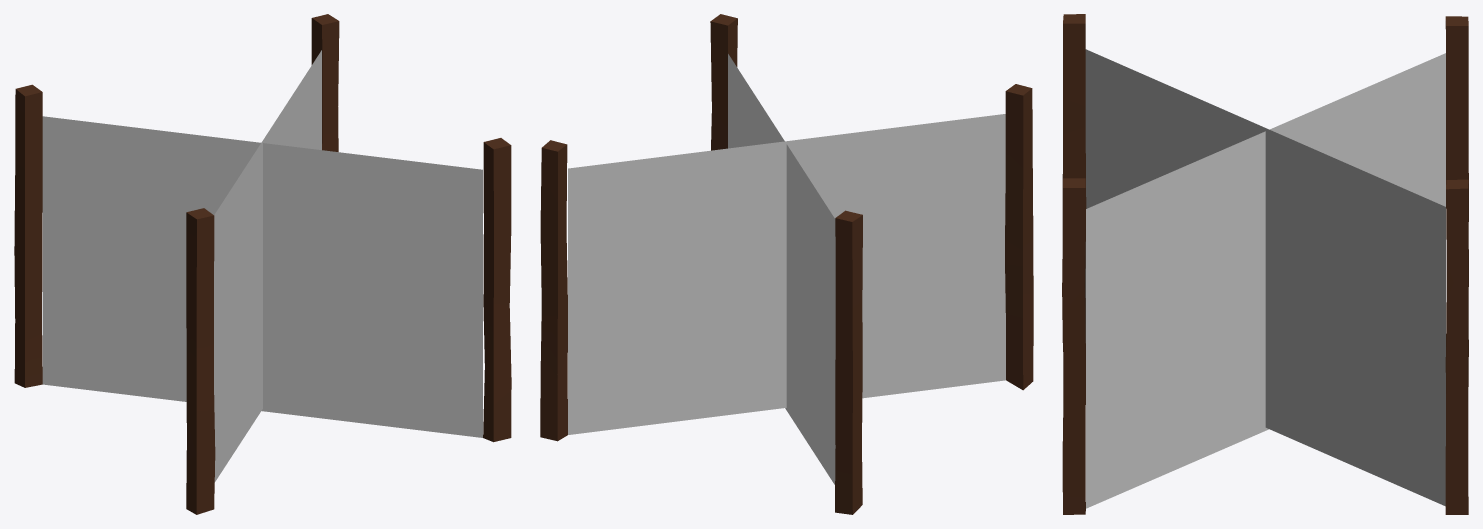
File: web.fbx
3 renders of one model, left to right at view 1: azimuth 30°, elevation 25°; view 2: azimuth 150°, elevation 25°; view 3: azimuth 270°, elevation 25°, orthographic. The views are drawn at different scales.
Visible parts, largest first — view 1: web.001, web.000; view 2: web.001, web.000; view 3: web.001, web.000.
Part boxes in pixels (x1,y1,x2,y2): web.001: (42, 50, 482, 482); web.000: (14, 14, 511, 514); web.001: (568, 54, 1005, 484); web.000: (540, 14, 1033, 514); web.001: (1085, 49, 1445, 508); web.000: (1062, 14, 1468, 514).
Bounding box in the file's own units: 619 × 560 × 620.
